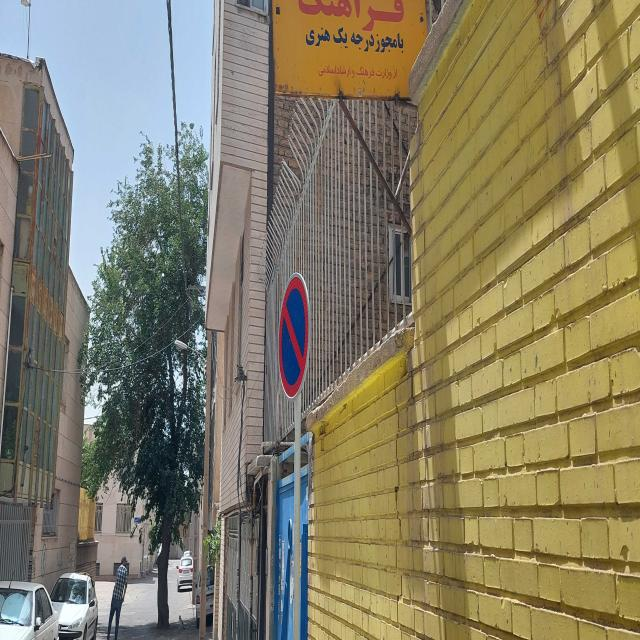forb_stopping: (275, 270, 311, 404)
